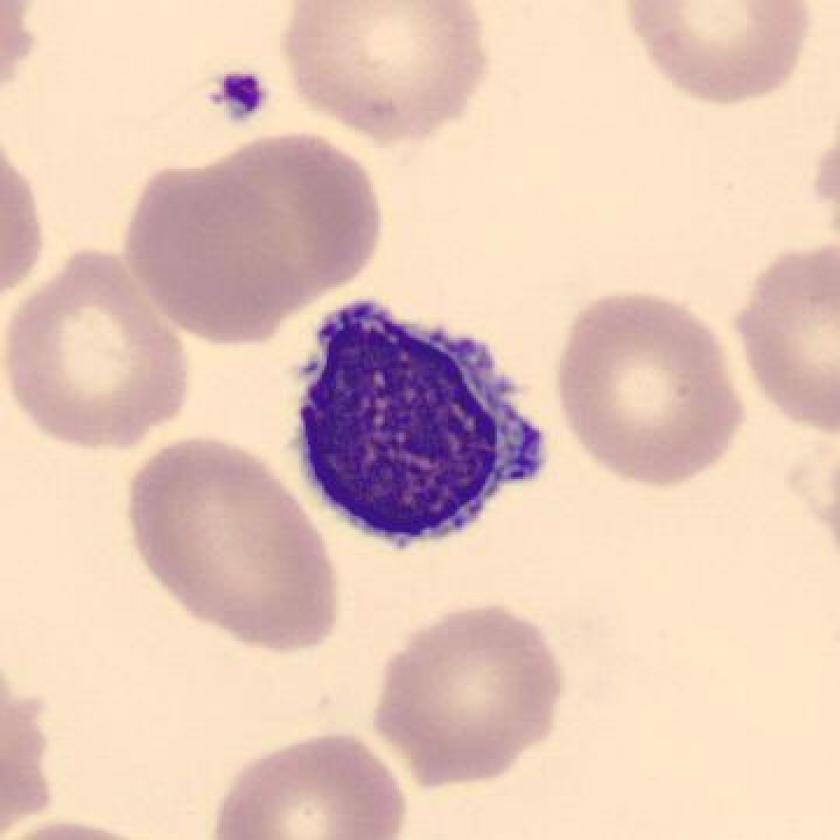lymphocyte: (284, 288, 557, 561)
